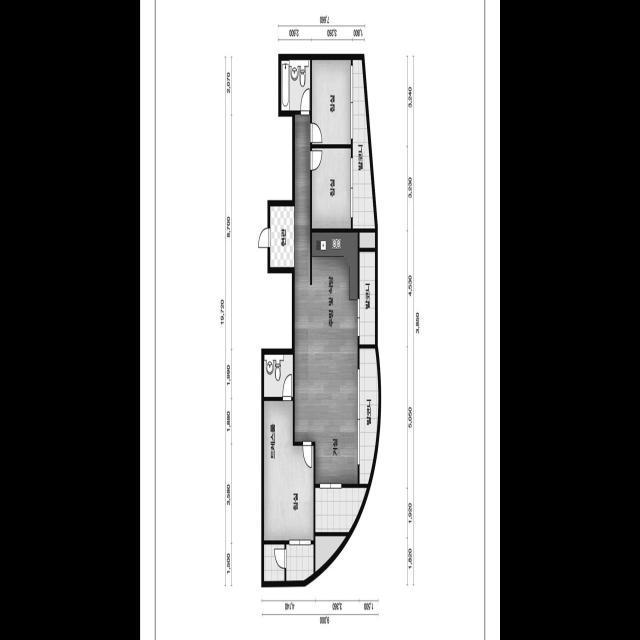background: (140, 0, 500, 640)
space_balconi: (353, 59, 375, 228), (359, 348, 378, 483), (315, 487, 367, 532), (359, 251, 375, 344), (286, 544, 314, 580), (264, 544, 285, 581)
space_bedroom: (264, 400, 314, 540), (312, 59, 351, 144), (312, 148, 351, 228)
space_front: (270, 206, 295, 267)
space_kitchen: (312, 232, 358, 344)
space_living_room: (295, 114, 358, 483)
space_other: (315, 536, 346, 572), (360, 232, 375, 247)
space_toilet: (281, 59, 310, 110), (264, 354, 293, 396)
